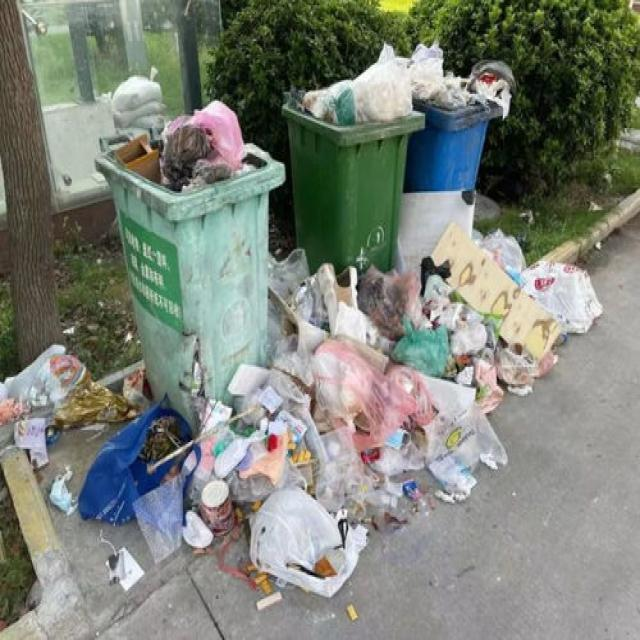garbage: (0, 224, 602, 616)
overflow: (95, 98, 284, 434), (280, 41, 422, 276), (403, 42, 513, 190)
